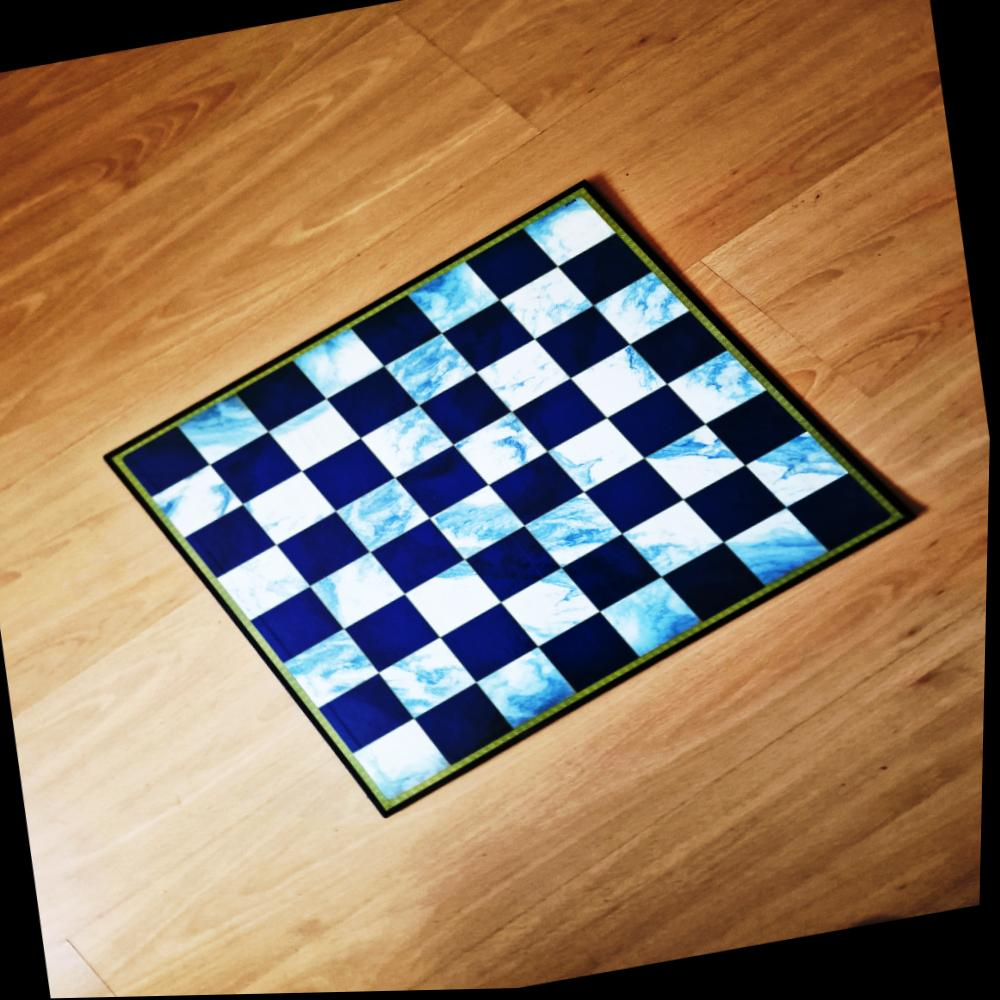chessfield: (351, 716, 466, 826), (593, 574, 714, 674), (472, 645, 589, 748), (721, 505, 840, 604), (783, 470, 903, 561), (411, 680, 521, 774), (535, 609, 647, 701), (496, 563, 608, 655), (618, 496, 730, 587), (661, 540, 771, 632), (377, 633, 487, 725), (741, 434, 853, 522), (662, 348, 775, 435), (274, 628, 383, 718), (518, 491, 628, 580), (515, 185, 623, 275), (639, 426, 748, 515), (685, 464, 794, 551), (435, 603, 542, 691), (560, 533, 666, 621), (304, 548, 410, 636), (402, 559, 508, 647), (588, 268, 697, 353), (286, 318, 389, 407), (473, 336, 579, 422), (585, 458, 691, 544), (466, 522, 571, 608), (542, 414, 649, 498), (339, 595, 443, 681), (428, 484, 532, 570), (210, 544, 314, 630), (448, 408, 553, 493), (604, 381, 710, 465), (171, 384, 274, 470), (314, 670, 417, 756), (330, 480, 434, 565), (494, 265, 597, 350), (241, 466, 345, 550), (358, 405, 463, 488), (403, 257, 504, 343), (379, 332, 482, 416), (572, 347, 676, 430), (629, 310, 732, 393), (275, 512, 377, 595), (266, 400, 367, 483), (370, 517, 471, 600), (708, 388, 809, 471), (508, 377, 610, 459), (298, 436, 400, 518), (533, 305, 634, 387), (111, 424, 213, 505), (488, 455, 588, 537), (251, 582, 351, 664), (416, 373, 518, 453), (556, 230, 656, 311), (323, 364, 423, 445), (348, 293, 448, 373), (394, 443, 494, 523), (230, 360, 330, 440), (461, 228, 562, 307), (439, 298, 538, 378), (212, 430, 311, 510), (183, 508, 281, 588), (154, 463, 249, 544)
